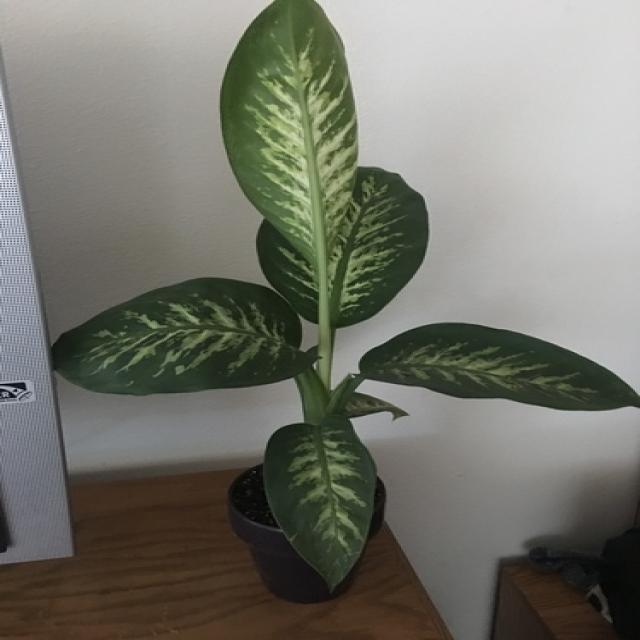dieffenbachia-oVHx: (53, 0, 640, 595)
